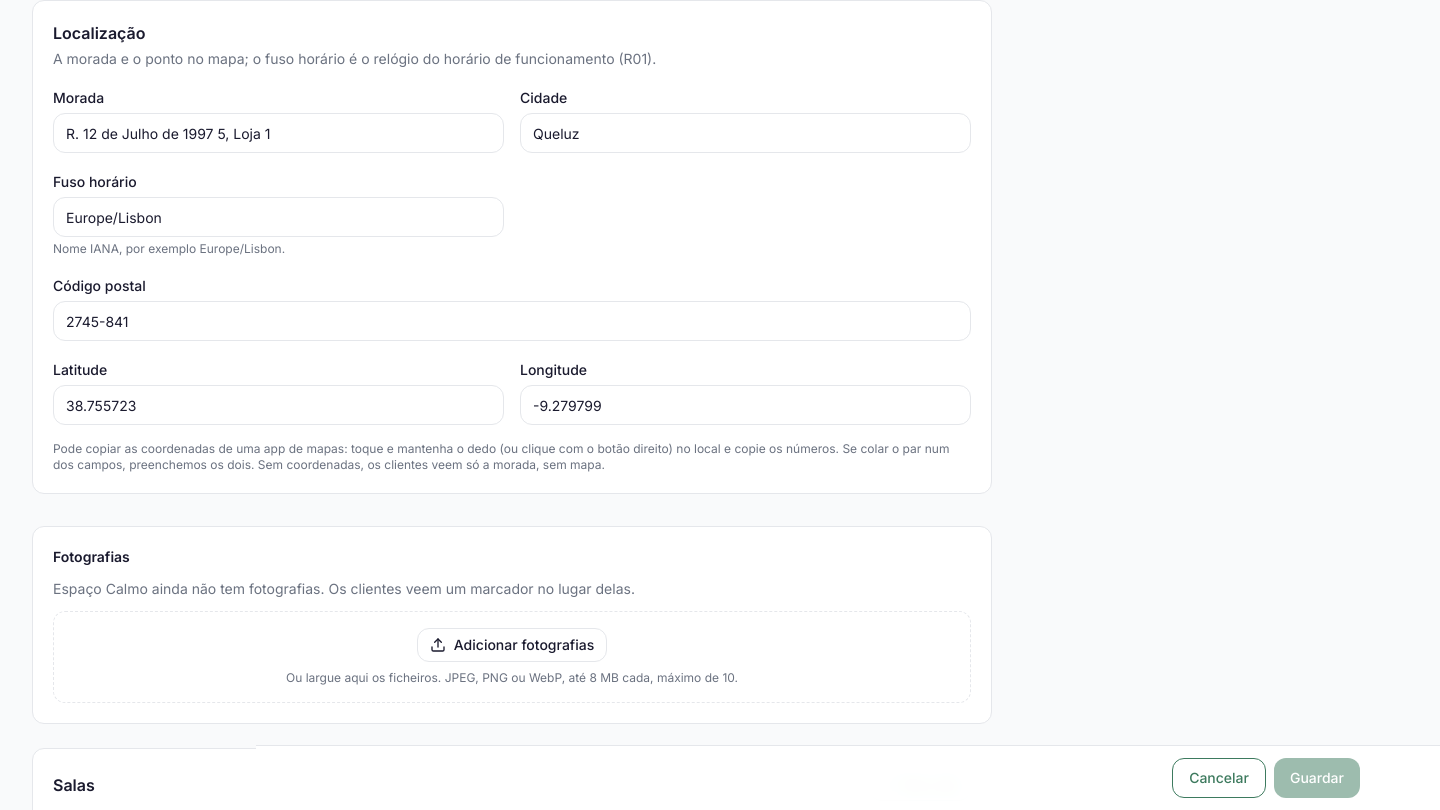
Test: space page — location (G06: the edit dialog became the page) › refuses half a coordinate inline
(page scrolled)
Check: the field labelled "Código postal" holds "2745-841", box x1=53 y1=301 x2=971 y2=341
Clear the field labelled "Longitude" at (746, 405), box x1=520 y1=385 x2=971 y2=425
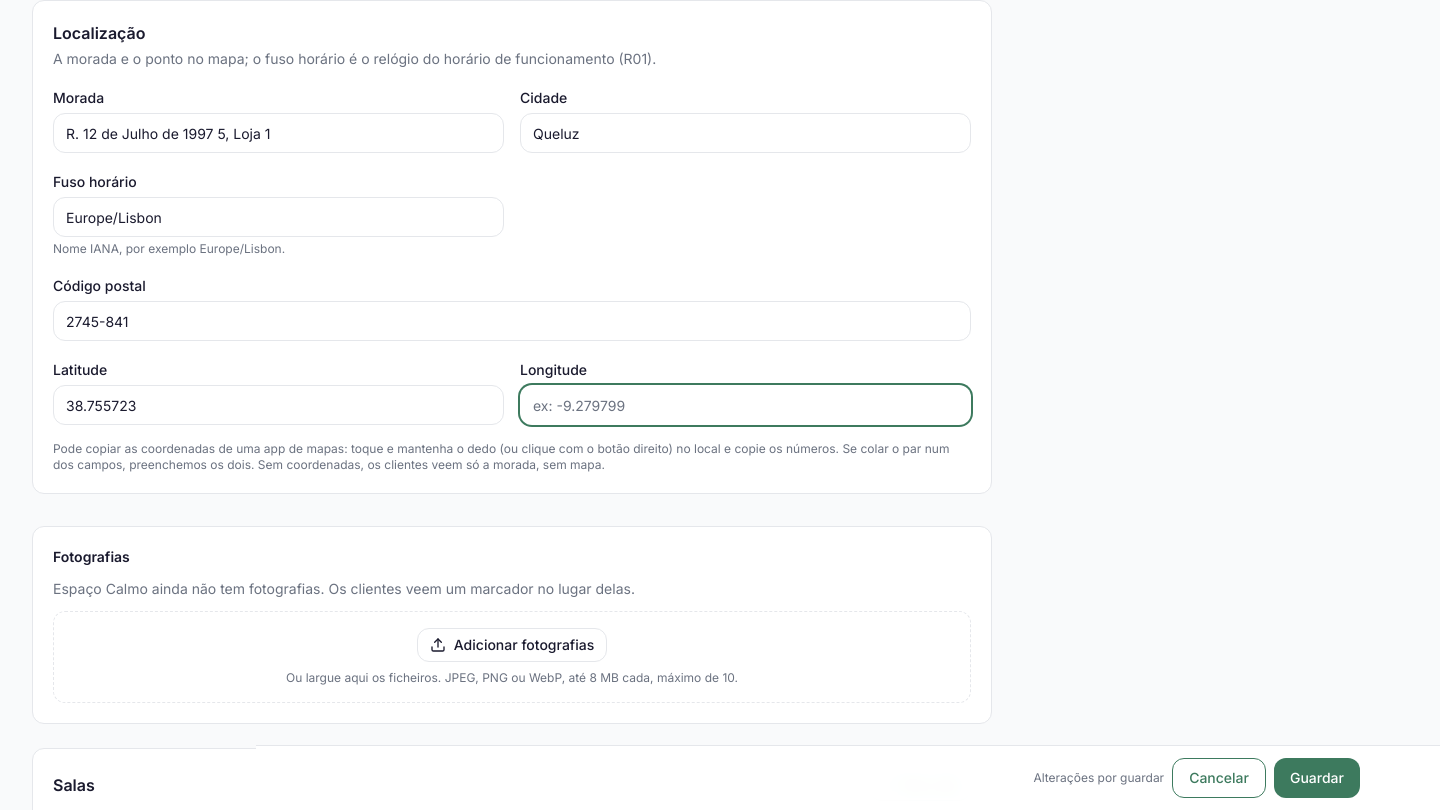
Click the button "Guardar" at (1317, 778), box x1=1274 y1=758 x2=1360 y2=798
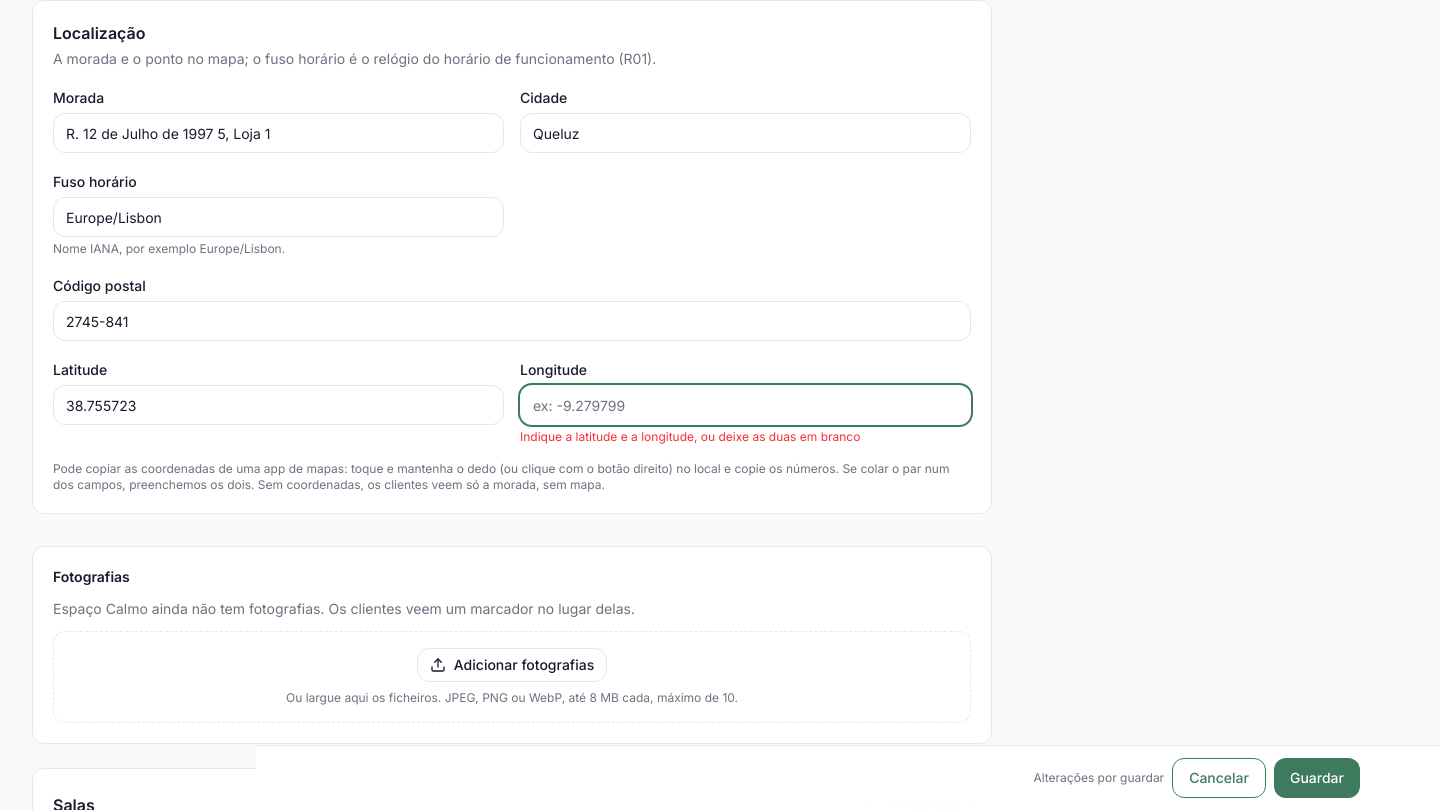
Check: the message "Indique a latitude e a longitude, ou deixe as duas em branco" is shown, box x1=520 y1=429 x2=860 y2=444
